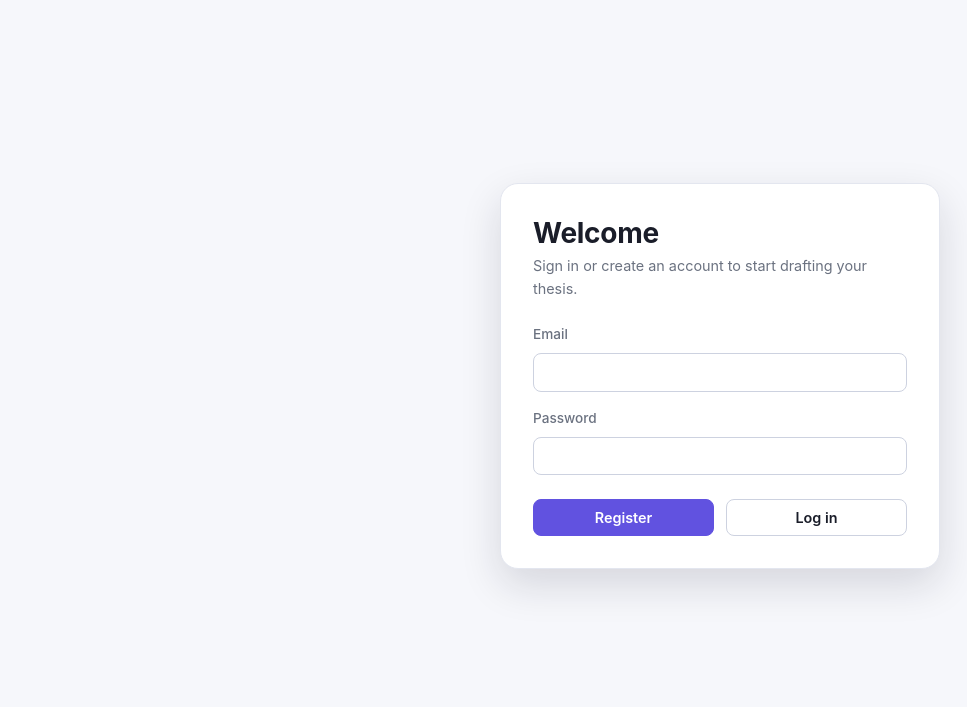
Onboarding › shows an error and does not store a token when registration fails
The image size is (967, 707).
Type "user@example.com" into the field labelled "Email" at [720, 372], box [533,353,907,392]
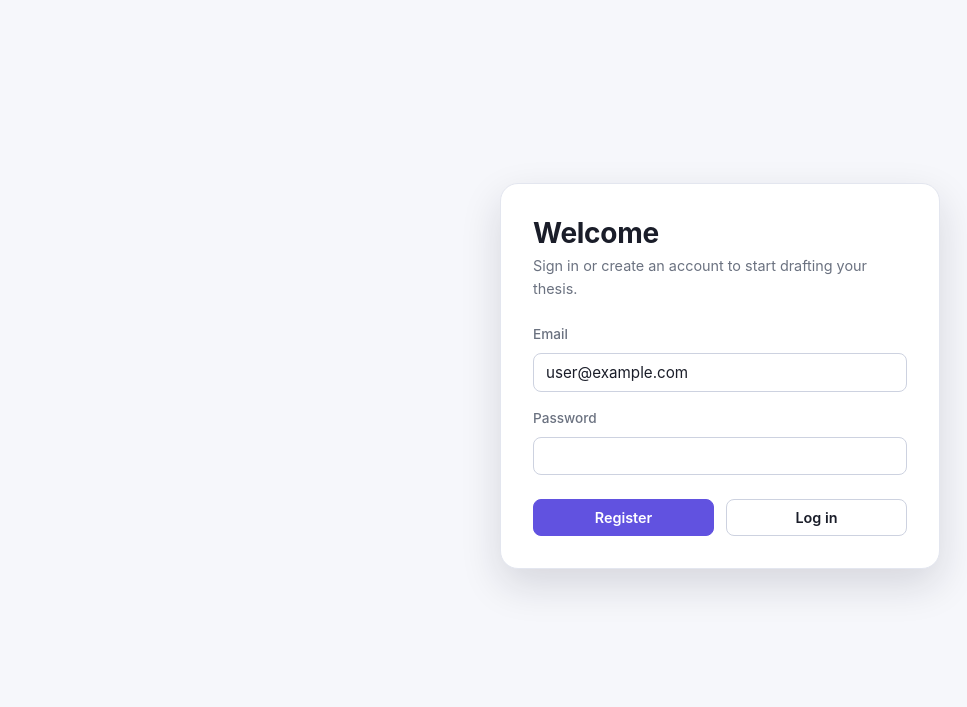
Type "password123" into the password field labelled "Password" at [720, 456], box [533,437,907,475]
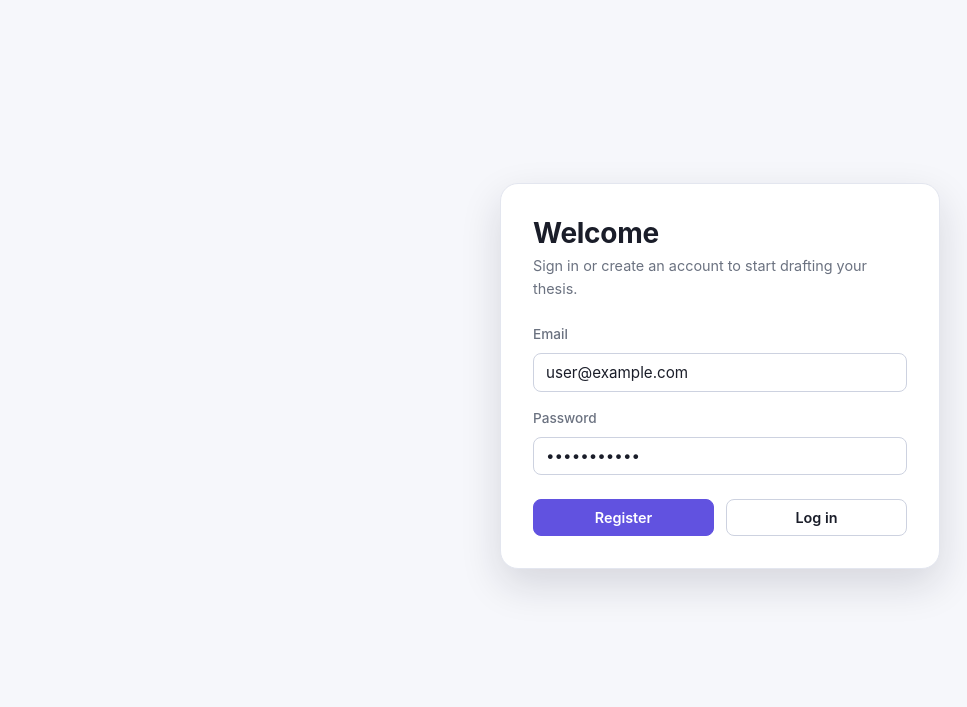
Click the button "Register" at [624, 518], box [533,499,714,536]
(page scrolled)
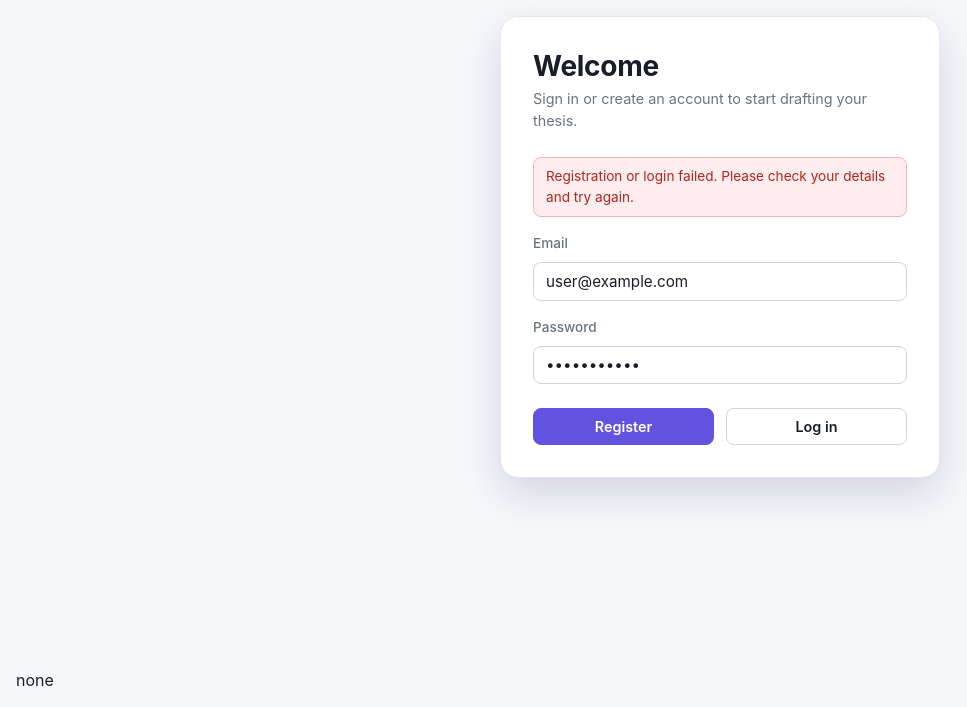
Expected: the text with test id "access-token" reads "none", [16,670,54,690]
Result: the text "Registration or login failed. Please check your details and try again." is shown at [533,157,907,217]
